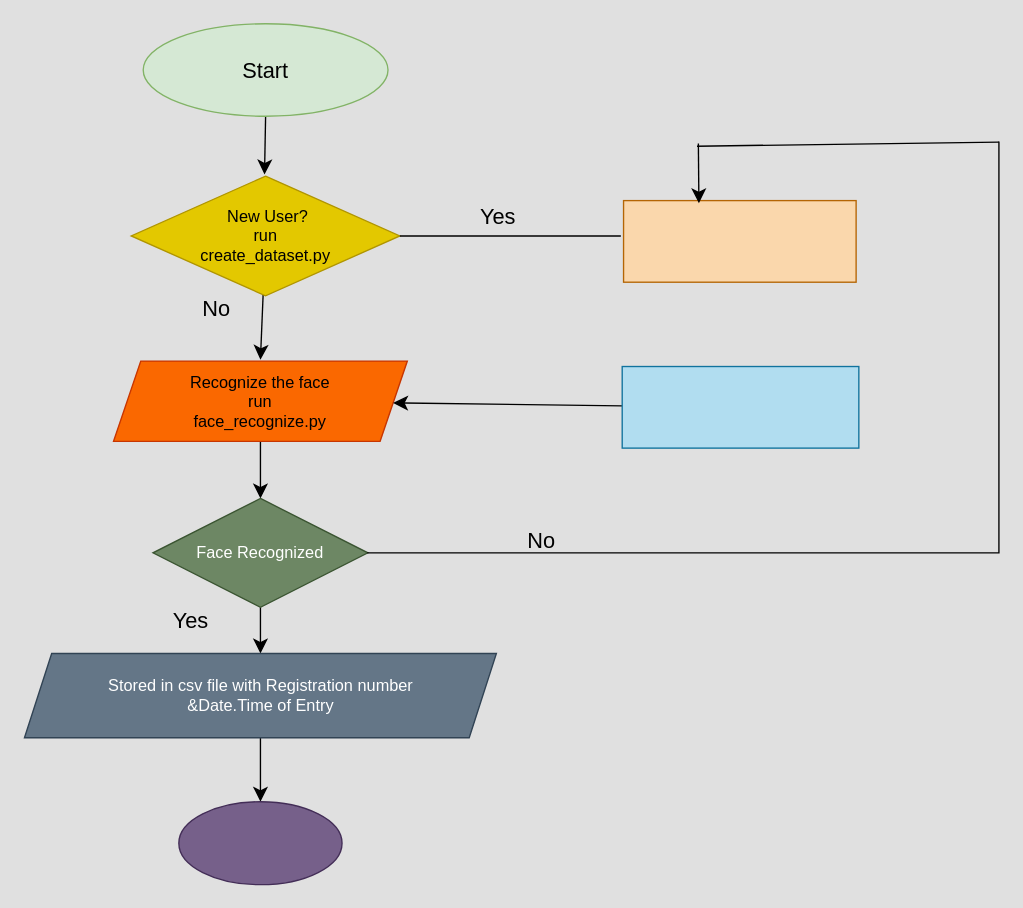
This 1023x908 diagram has some shape labels left out. Each missing label, with the centre of its shape:
"End" belongs at [259,842].
"Give your photograph" belongs at [739,240].
"Stored the face data in folder on your name" belongs at [740,406].
